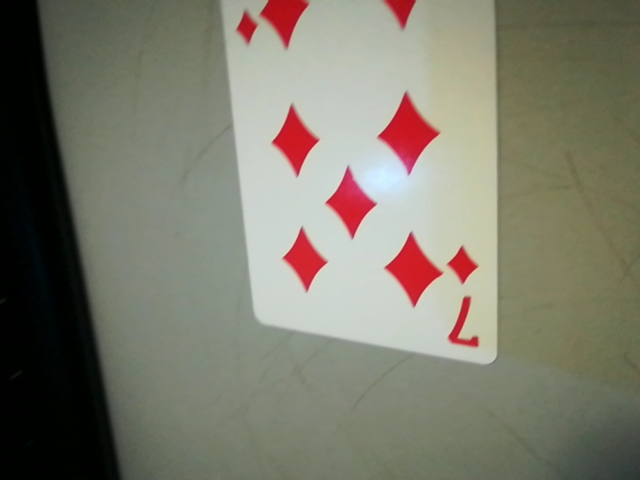fk 7: (437, 237, 489, 359)
